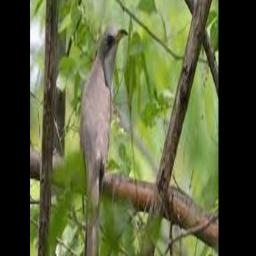Cuckoo: (79, 29, 128, 256)
